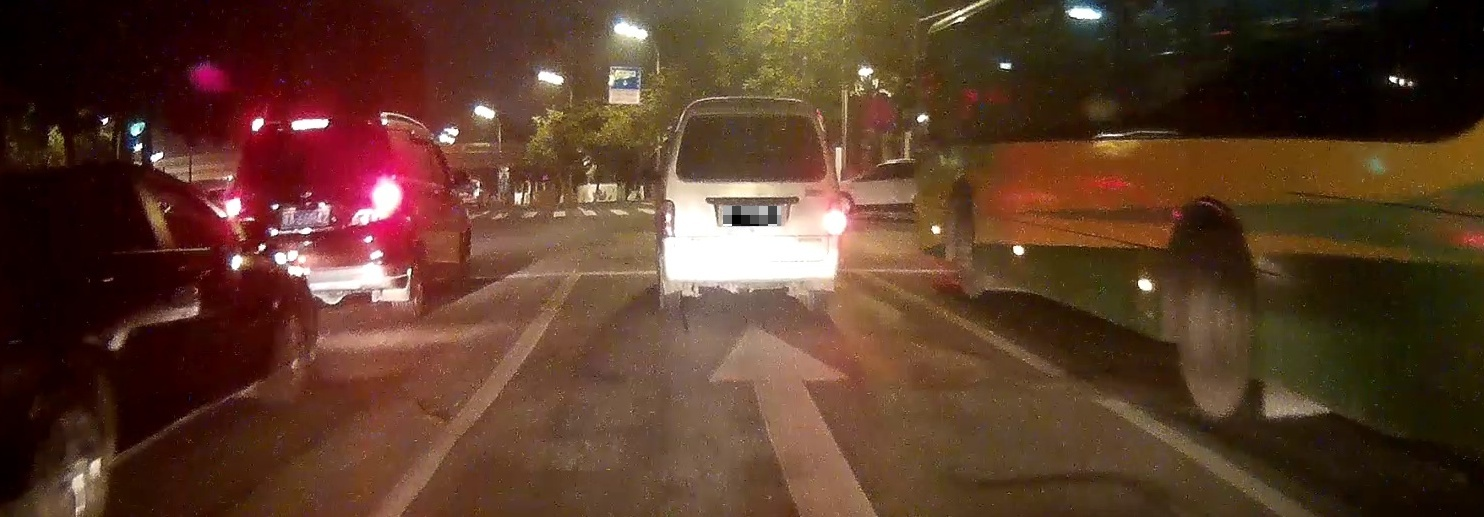L_light: (221, 192, 251, 220), (659, 199, 675, 238)
R_light: (344, 175, 410, 227), (824, 199, 846, 236)
T_light: (290, 118, 329, 131), (737, 114, 768, 121)
night-brake: (223, 115, 412, 322)
night-right: (659, 97, 847, 320)
plate_1: (723, 206, 781, 226)
